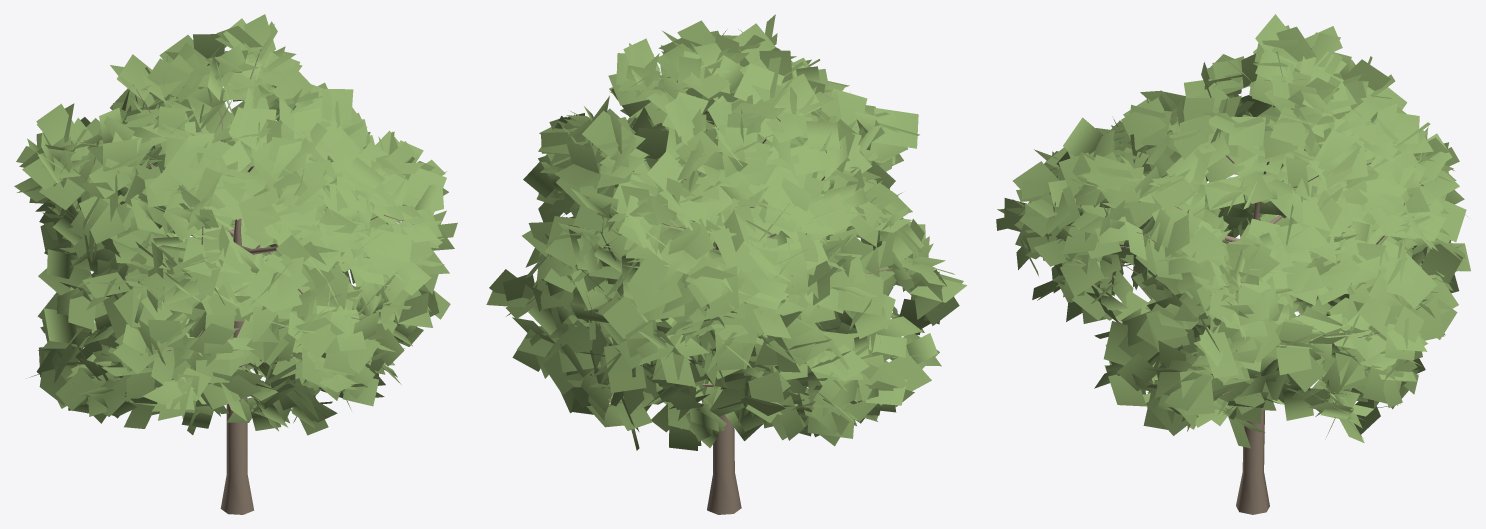
File: Broadleaf_1_lod1.glb
The picture shows the model from 3 angles, left to right: view 1: azimuth 30°, elevation 25°; view 2: azimuth 150°, elevation 25°; view 3: azimuth 270°, elevation 25°; orthographic projection. The views are drawn at different scales.
Visible parts, largest first — view 1: Broadleaf_1_lod1; view 2: Broadleaf_1_lod1; view 3: Broadleaf_1_lod1.
Boxes of the visible parts, left/top/right/bottom form: Broadleaf_1_lod1: left=14, top=14, right=457, bottom=514; Broadleaf_1_lod1: left=486, top=14, right=966, bottom=514; Broadleaf_1_lod1: left=996, top=14, right=1470, bottom=514.
Size of the model in its own units: 11.18 by 12.54 by 11.72.
